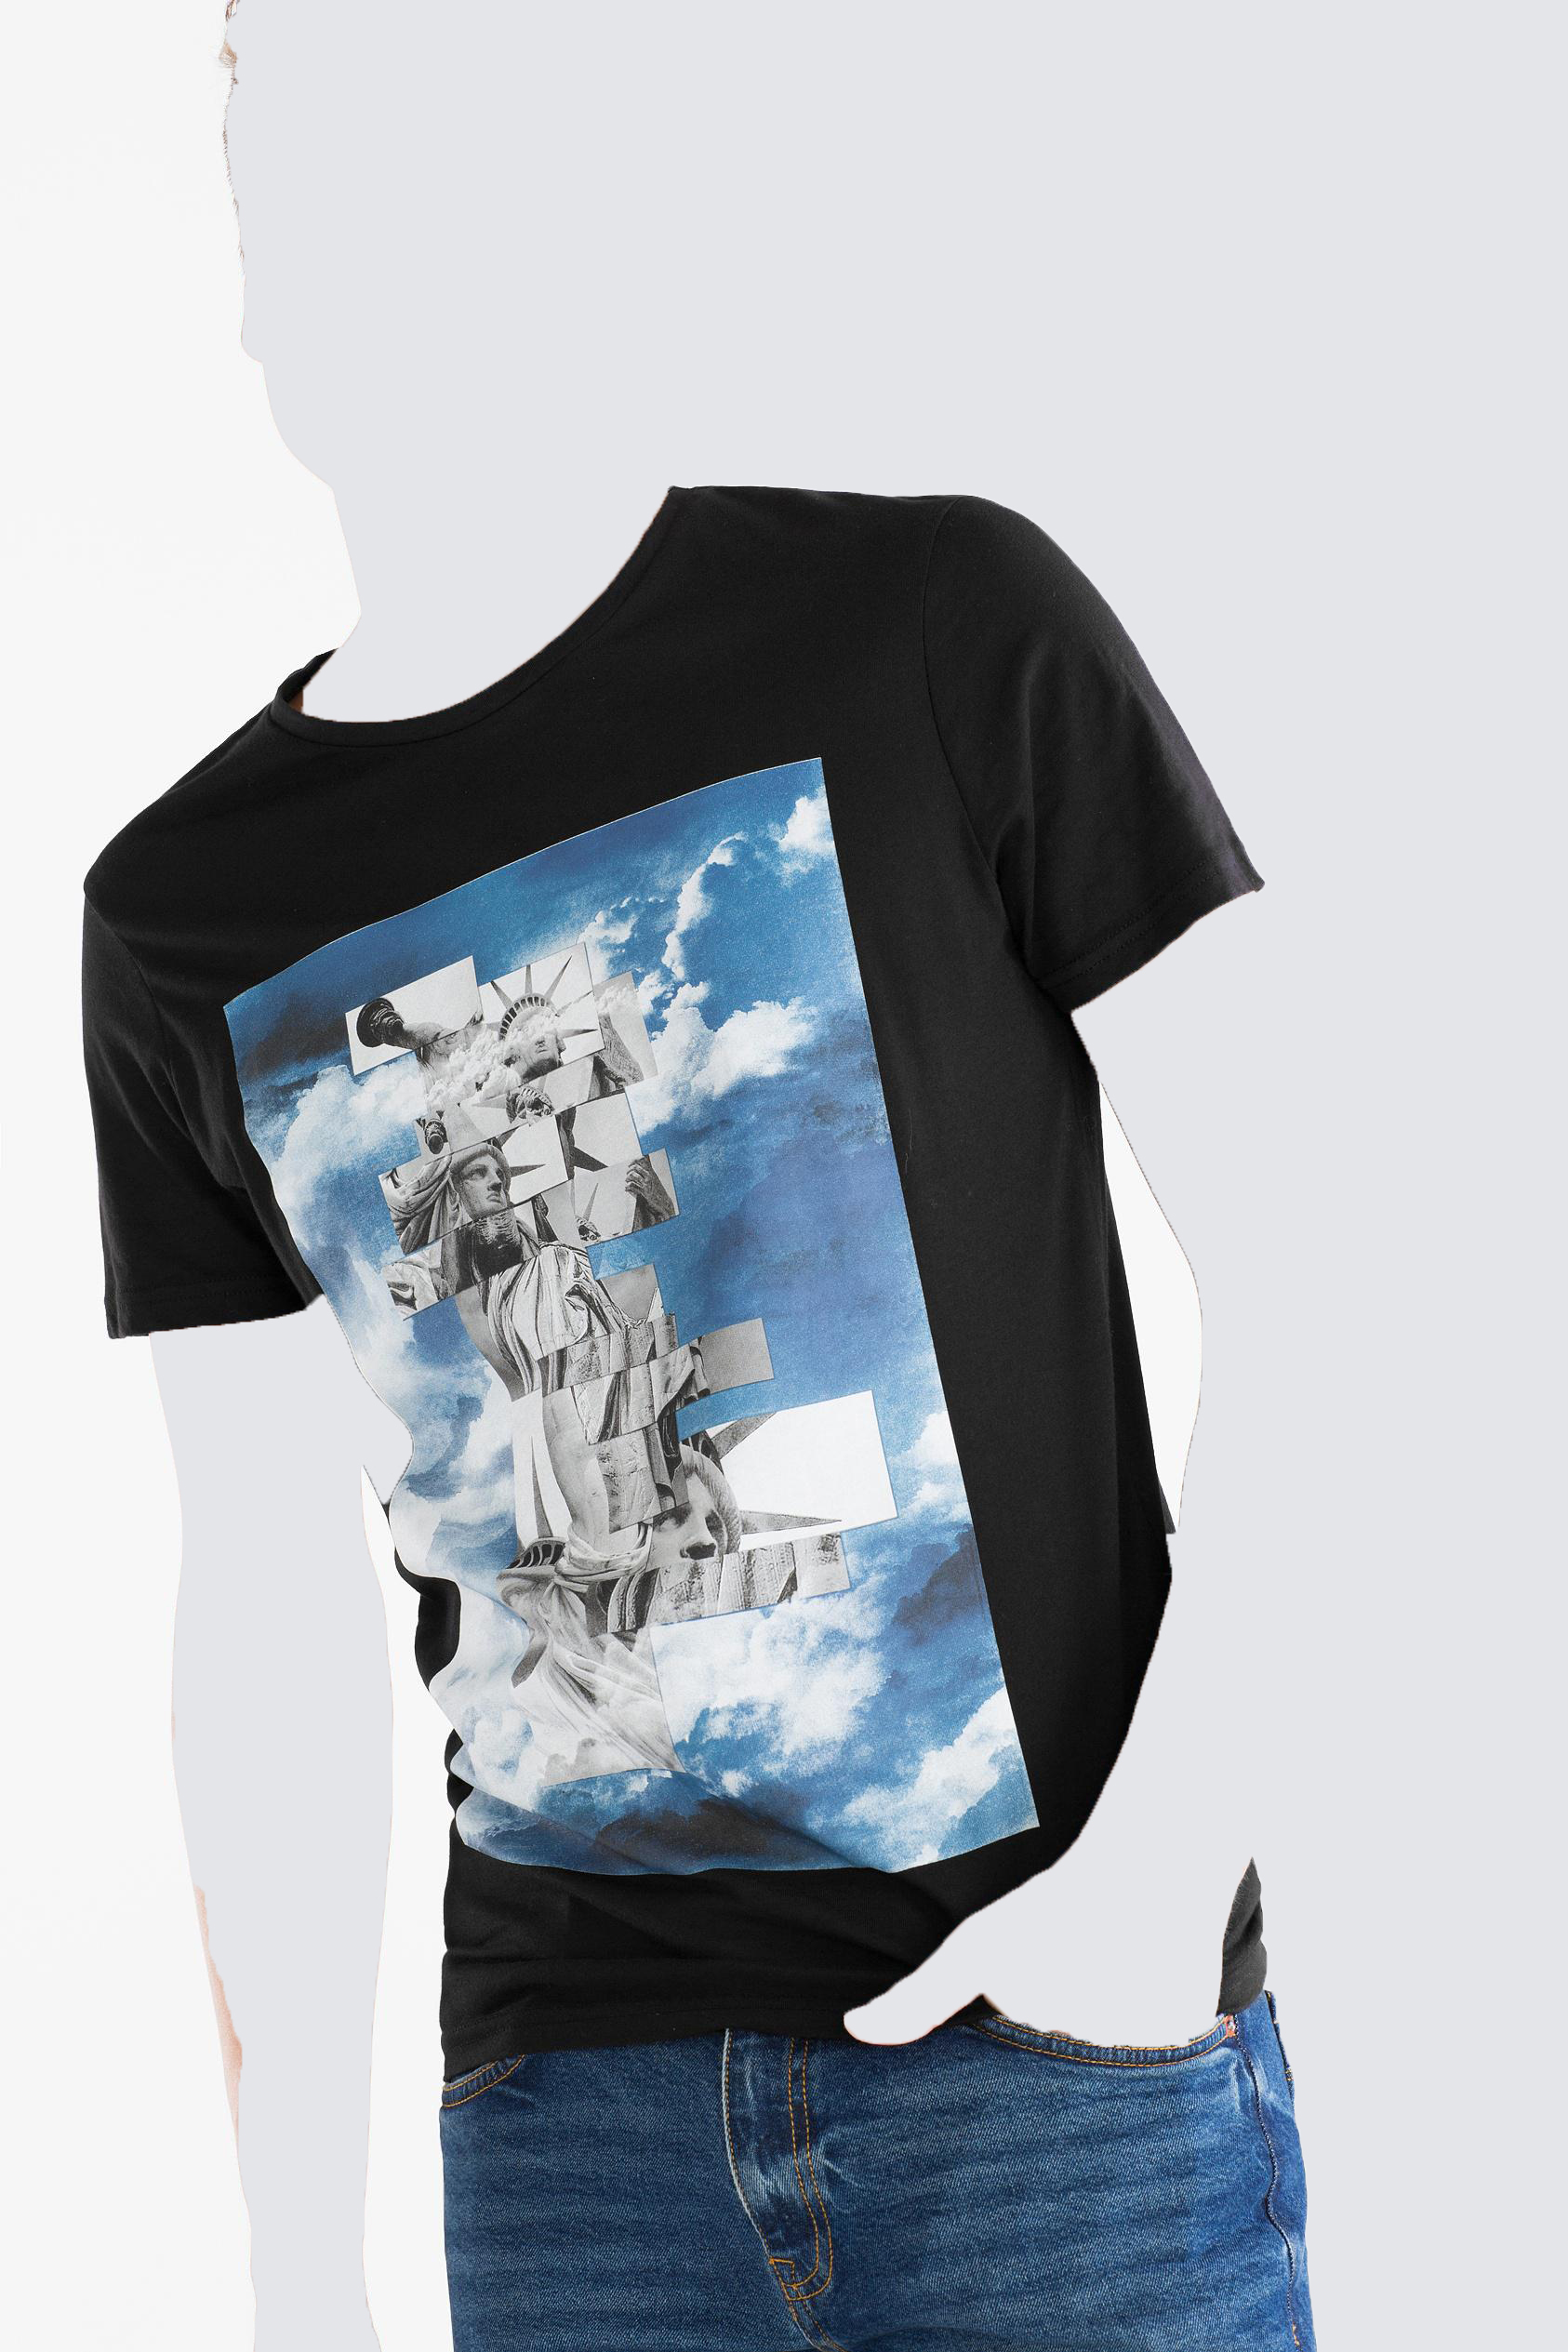teeshirt: (49, 471, 1347, 2026)
